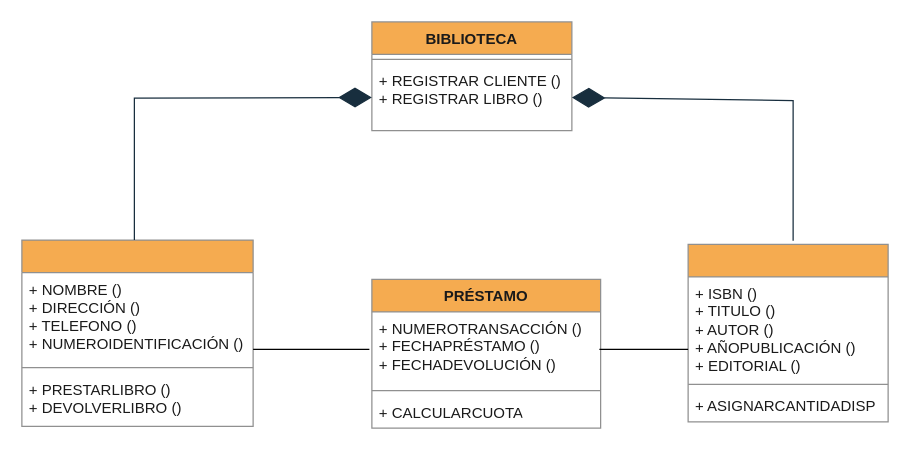
Some shapes in this 910 by 454 pixel diagram are drawn without their labels. The box of each missing label's shape, as (x1, y1, x2, y2) in pixels:
CLIENTE: (21, 239, 253, 426)
LIBRO: (687, 243, 888, 422)
